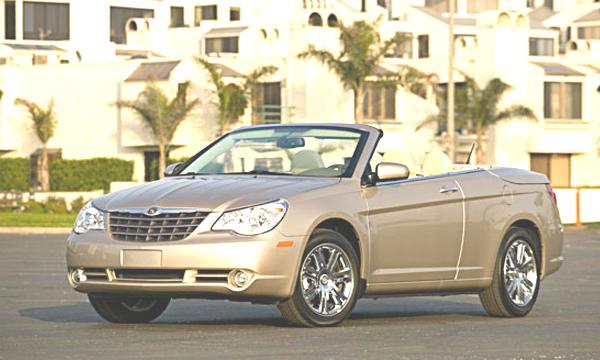Chrysler: (106, 203, 213, 218)
